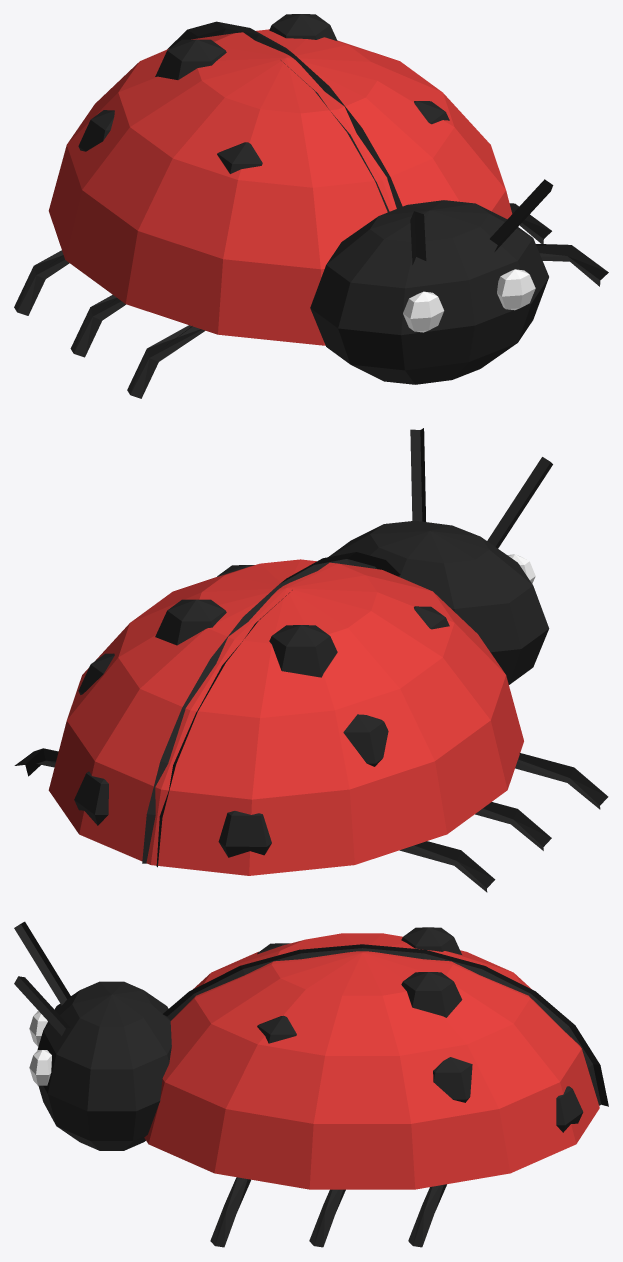
Rendered from nyckelpiga.glb.
The picture shows the model from 3 angles, top to bottom: view 1: azimuth 30°, elevation 25°; view 2: azimuth 150°, elevation 25°; view 3: azimuth 270°, elevation 25°; orthographic projection. The views are drawn at different scales.
Parts seen in each view (by area): view 1: nyckelpiga; view 2: nyckelpiga; view 3: nyckelpiga.
Part boxes in pixels (box(x1,y1,x2,y2)): nyckelpiga: box(14, 14, 608, 398); nyckelpiga: box(14, 428, 608, 892); nyckelpiga: box(14, 921, 608, 1247).
Bounding box in the file's own units: 0.7379 × 0.3412 × 0.9021.
